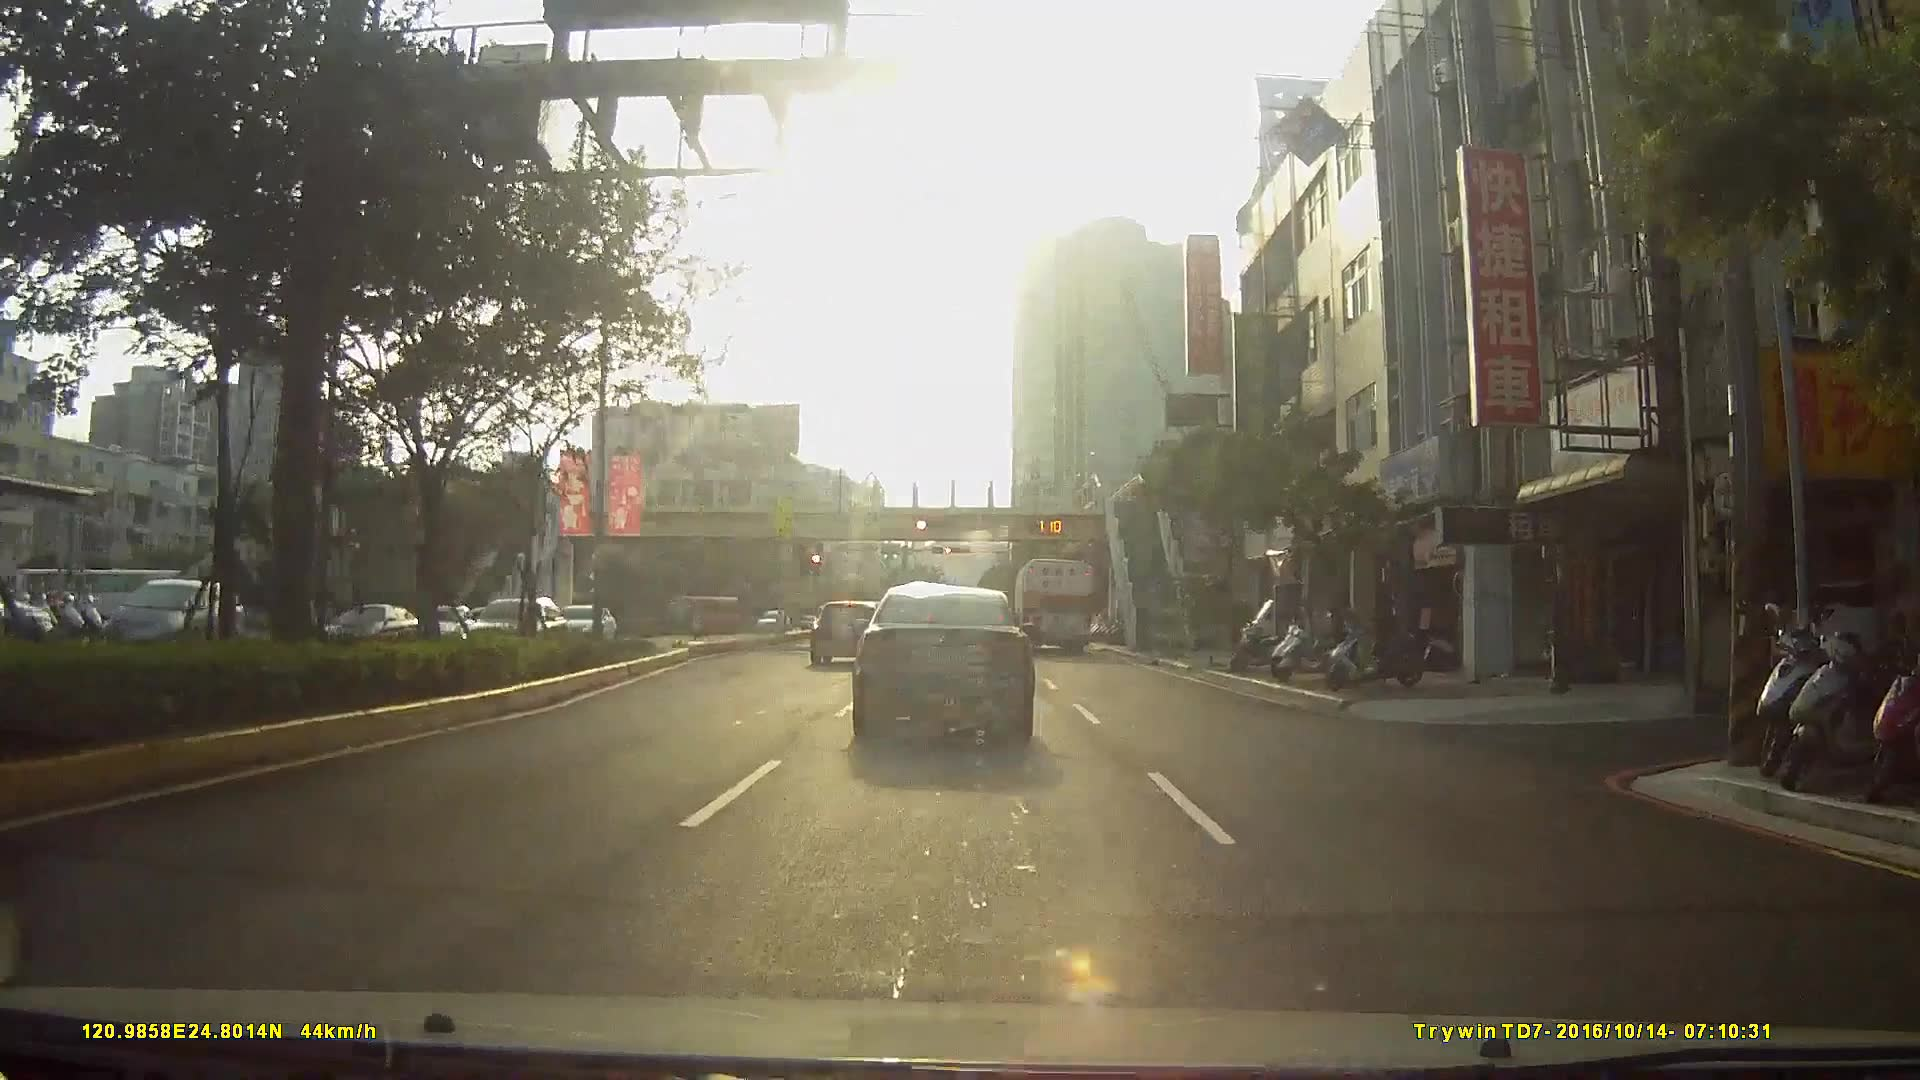vehicle: (851, 580, 1036, 738), (94, 578, 237, 659), (1010, 555, 1095, 654), (806, 597, 880, 669), (752, 607, 793, 633)
